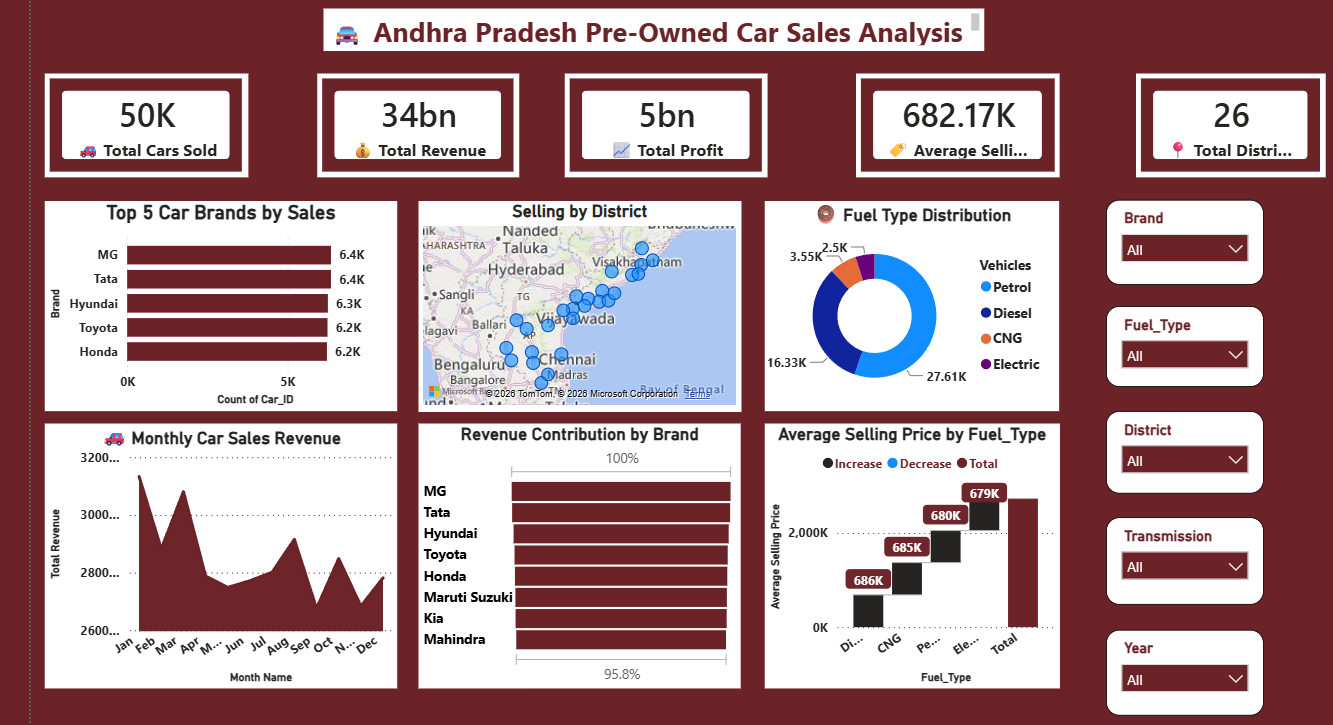

What the dashboard file says about the page in this screenshot:
{"tool":"powerbi","page":{"name":"Page 1","canvas":[1280,720],"ordinal":0},"visuals":[{"type":"textbox","box":[286.2,12.5,646.2,41.2],"z":0},{"type":"cardVisual","fields":{"Data":["AP_PreOwned_Car_Sales_50000_Rows_Professional.Cars Sold"]},"box":[13.5,75.8,232.3,101.5],"z":1000},{"type":"cardVisual","fields":{"Data":["AP_PreOwned_Car_Sales_50000_Rows_Professional.Total Revenue"]},"box":[258,75.8,220.1,101.5],"z":2000},{"type":"cardVisual","fields":{"Data":["AP_PreOwned_Car_Sales_50000_Rows_Professional.Total Profit"]},"box":[494,75.8,251.9,101.5],"z":3000},{"type":"cardVisual","fields":{"Data":["AP_PreOwned_Car_Sales_50000_Rows_Professional.Average Selling Price"]},"box":[760.6,77,255.6,101.5],"z":4000},{"type":"cardVisual","fields":{"Data":["AP_PreOwned_Car_Sales_50000_Rows_Professional.Total Districts"]},"box":[1033.3,77,233.6,101.5],"z":5000},{"type":"columnChart","title":"🚗Sales of Top 5 Car Brands⭐","fields":{"Category":["AP_PreOwned_Car_Sales_50000_Rows_Professional.Brand"],"Y":["CountNonNull(AP_PreOwned_Car_Sales_50000_Rows_Professional.Car_ID)"]},"box":[13.5,200.5,344.8,205.4],"z":6000},{"type":"map","title":"📍Selling by District","fields":{"Category":["AP_PreOwned_Car_Sales_50000_Rows_Professional.District"],"Size":["CountNonNull(AP_PreOwned_Car_Sales_50000_Rows_Professional.Selling_Price)"]},"box":[379.1,200.5,315.5,205.4],"z":7000},{"type":"donutChart","title":"⛽Fuel Type Distribution ","fields":{"Y":["CountNonNull(AP_PreOwned_Car_Sales_50000_Rows_Professional.Car_ID)"],"Category":["AP_PreOwned_Car_Sales_50000_Rows_Professional.Fuel_Type"]},"box":[717.7,200.3,288.2,205.8],"z":8000},{"type":"lineChart","title":"🚗 Monthly Car Sales Revenue","fields":{"Category":["AP_PreOwned_Car_Sales_50000_Rows_Professional.Month Name"],"Y":["AP_PreOwned_Car_Sales_50000_Rows_Professional.Total Revenue"]},"box":[13.5,418.2,344.8,259.2],"z":9000},{"type":"funnel","title":"💰Revenue Contribution by Brand","fields":{"Category":["AP_PreOwned_Car_Sales_50000_Rows_Professional.Brand"],"Y":["AP_PreOwned_Car_Sales_50000_Rows_Professional.Total Revenue"]},"box":[379.1,418.2,315.5,259.2],"z":10000},{"type":"waterfallChart","title":"⛽Average Selling Price by Fuel_Type","fields":{"Category":["AP_PreOwned_Car_Sales_50000_Rows_Professional.Fuel_Type"],"Y":["AP_PreOwned_Car_Sales_50000_Rows_Professional.Average Selling Price"]},"box":[717.8,418.2,288.6,259.2],"z":11000},{"type":"slicer","fields":{"Values":["AP_PreOwned_Car_Sales_50000_Rows_Professional.Brand"]},"box":[1033.3,192,217.7,70.9],"z":12000},{"type":"slicer","fields":{"Values":["AP_PreOwned_Car_Sales_50000_Rows_Professional.Fuel_Type"]},"box":[1033.3,284.9,217.7,74.6],"z":13000},{"type":"slicer","fields":{"Values":["AP_PreOwned_Car_Sales_50000_Rows_Professional.District"]},"box":[1033.3,391.3,217.7,73.4],"z":14000},{"type":"slicer","fields":{"Values":["AP_PreOwned_Car_Sales_50000_Rows_Professional.Transmission"]},"box":[1033.3,496.5,217.7,74.6],"z":15000},{"type":"slicer","fields":{"Values":["AP_PreOwned_Car_Sales_50000_Rows_Professional.Year"]},"box":[1033.3,600.4,217.7,77],"z":16000}]}

Visuals, with their boxes in screenshot pixels (x1, y1, x2, y2):
textbox: (319,2,985,45)
cardVisual - AP_PreOwned_Car_Sales_50000_Rows_Professional.Cars Sold: (38,68,278,172)
cardVisual - AP_PreOwned_Car_Sales_50000_Rows_Professional.Total Revenue: (290,68,517,172)
cardVisual - AP_PreOwned_Car_Sales_50000_Rows_Professional.Total Profit: (533,68,793,172)
cardVisual - AP_PreOwned_Car_Sales_50000_Rows_Professional.Average Selling Price: (808,69,1071,173)
cardVisual - AP_PreOwned_Car_Sales_50000_Rows_Professional.Total Districts: (1089,69,1330,173)
"🚗Sales of Top 5 Car Brands⭐" columnChart: (38,196,393,408)
"📍Selling by District" map: (415,196,740,408)
"⛽Fuel Type Distribution " donutChart: (764,196,1061,408)
"🚗 Monthly Car Sales Revenue" lineChart: (38,420,393,687)
"💰Revenue Contribution by Brand" funnel: (415,420,740,687)
"⛽Average Selling Price by Fuel_Type" waterfallChart: (764,420,1061,687)
slicer - AP_PreOwned_Car_Sales_50000_Rows_Professional.Brand: (1089,187,1313,260)
slicer - AP_PreOwned_Car_Sales_50000_Rows_Professional.Fuel_Type: (1089,283,1313,360)
slicer - AP_PreOwned_Car_Sales_50000_Rows_Professional.District: (1089,393,1313,468)
slicer - AP_PreOwned_Car_Sales_50000_Rows_Professional.Transmission: (1089,501,1313,578)
slicer - AP_PreOwned_Car_Sales_50000_Rows_Professional.Year: (1089,608,1313,687)
